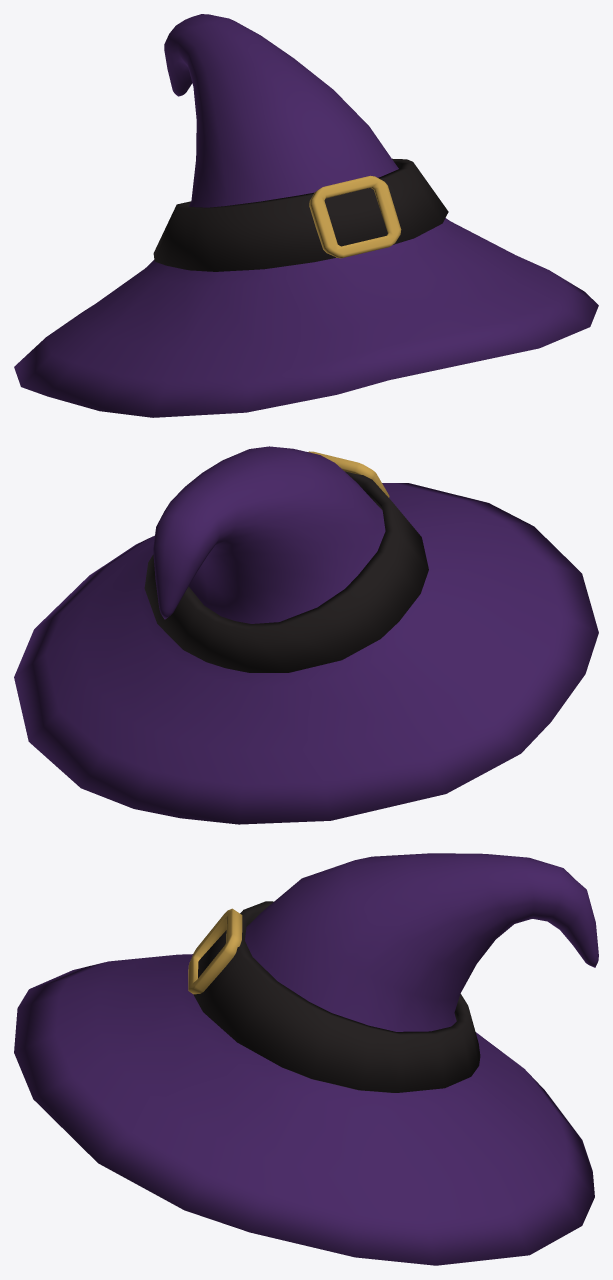
Rendered from hatWitch.glb.
3 renders of one model, top to bottom at view 1: azimuth 30°, elevation 25°; view 2: azimuth 150°, elevation 25°; view 3: azimuth 270°, elevation 25°, orthographic. The views are drawn at different scales.
Parts seen in each view (by area): view 1: hatWitch; view 2: hatWitch; view 3: hatWitch.
Part boxes in pixels (bbox=[...]): hatWitch: bbox=[14, 14, 598, 417]; hatWitch: bbox=[14, 446, 598, 824]; hatWitch: bbox=[14, 853, 598, 1265].
Bounding box in the file's own units: 0.7774 × 0.4434 × 0.7306.
